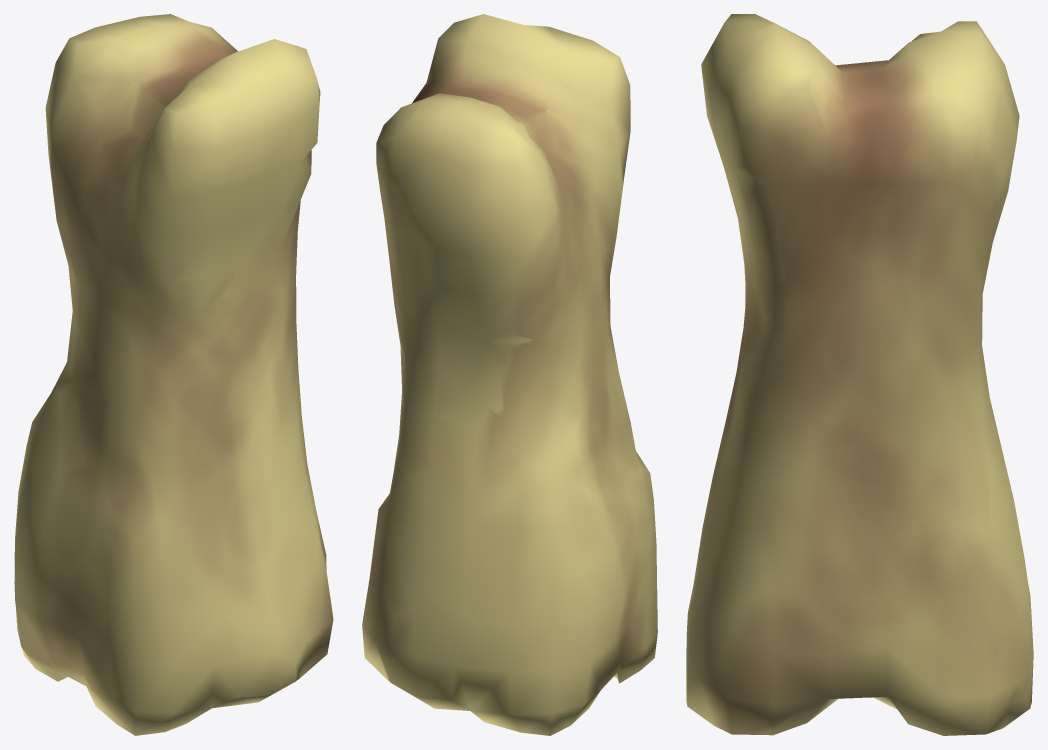
File: Soldier_Bone_1.fbx
The picture shows the model from 3 angles, left to right: view 1: azimuth 30°, elevation 25°; view 2: azimuth 150°, elevation 25°; view 3: azimuth 270°, elevation 25°; orthographic projection. The views are drawn at different scales.
Parts seen in each view (by area): view 1: Soldier_bone_1; view 2: Soldier_bone_1; view 3: Soldier_bone_1.
Part boxes in pixels (x1,y1,x2,y2): Soldier_bone_1: (14, 14, 333, 735); Soldier_bone_1: (362, 14, 657, 735); Soldier_bone_1: (686, 14, 1033, 735).
Bounding box in the file's own units: 45.61 × 118 × 52.
Materials: 1 (1 with a texture image).
